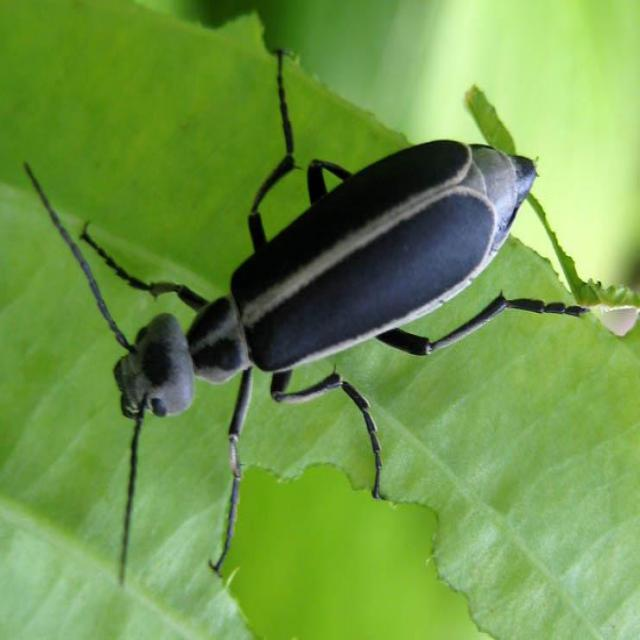BlisterBeetle-Adult-: (17, 44, 563, 539)
